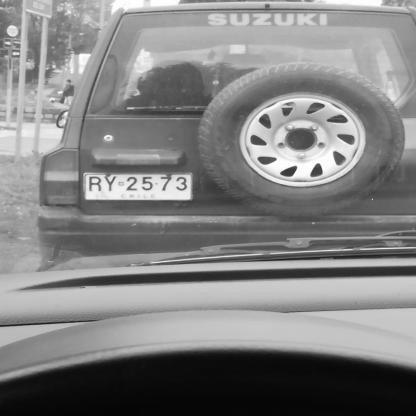Patente: (81, 171, 197, 205)
